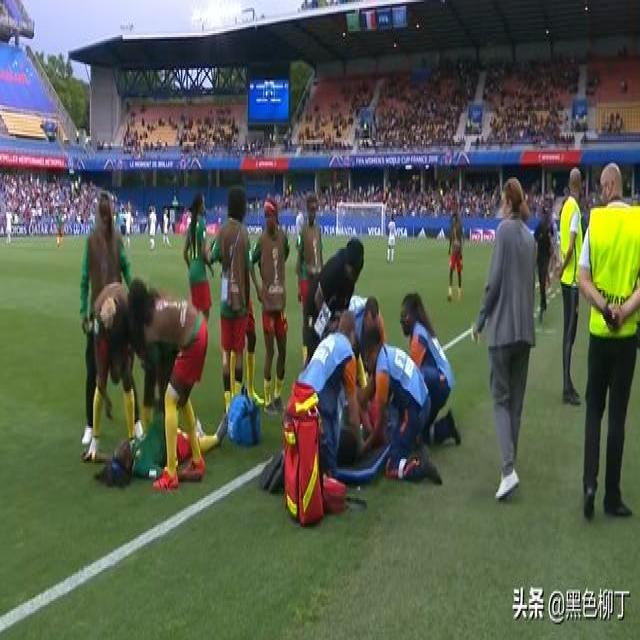10-: (0, 29, 639, 527)
down: (82, 377, 232, 502)
